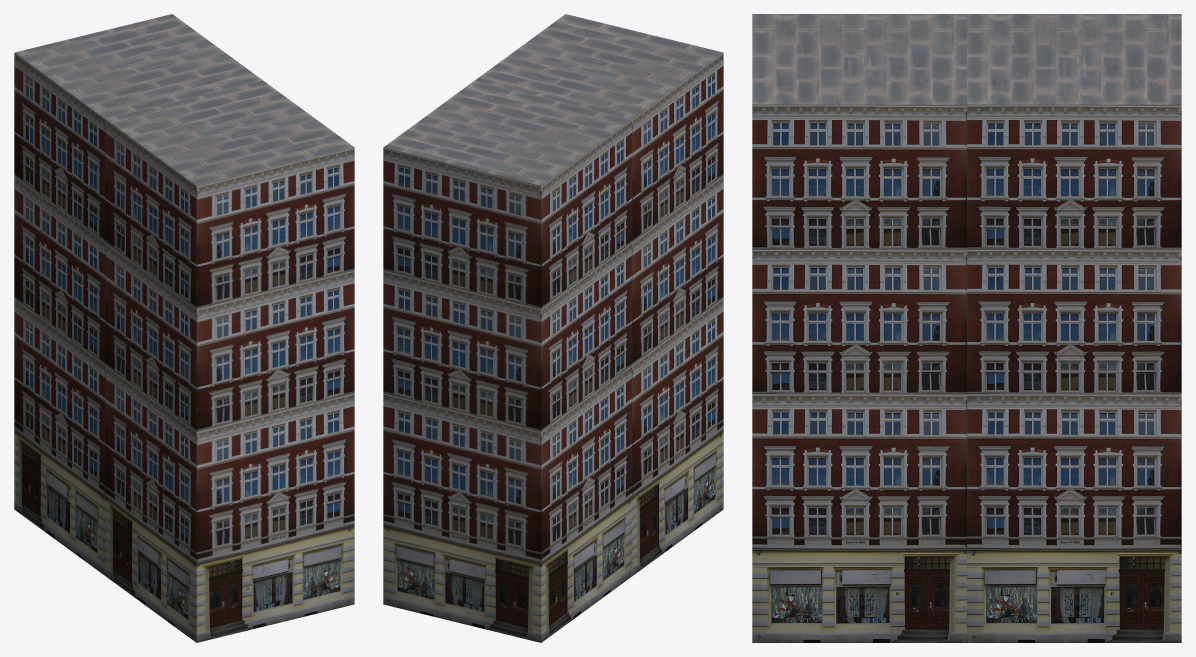
File: Building065.fbx
The picture shows the model from 3 angles, left to right: view 1: azimuth 30°, elevation 25°; view 2: azimuth 150°, elevation 25°; view 3: azimuth 270°, elevation 25°; orthographic projection. The views are drawn at different scales.
Visible parts, largest first — view 1: Building065; view 2: Building065; view 3: Building065.
Boxes of the visible parts, <box> form: Building065: <box>14,14,354,642</box>; Building065: <box>383,14,723,642</box>; Building065: <box>752,14,1181,642</box>.
Size of the model in its own units: 5.23 by 14.47 by 10.46.
